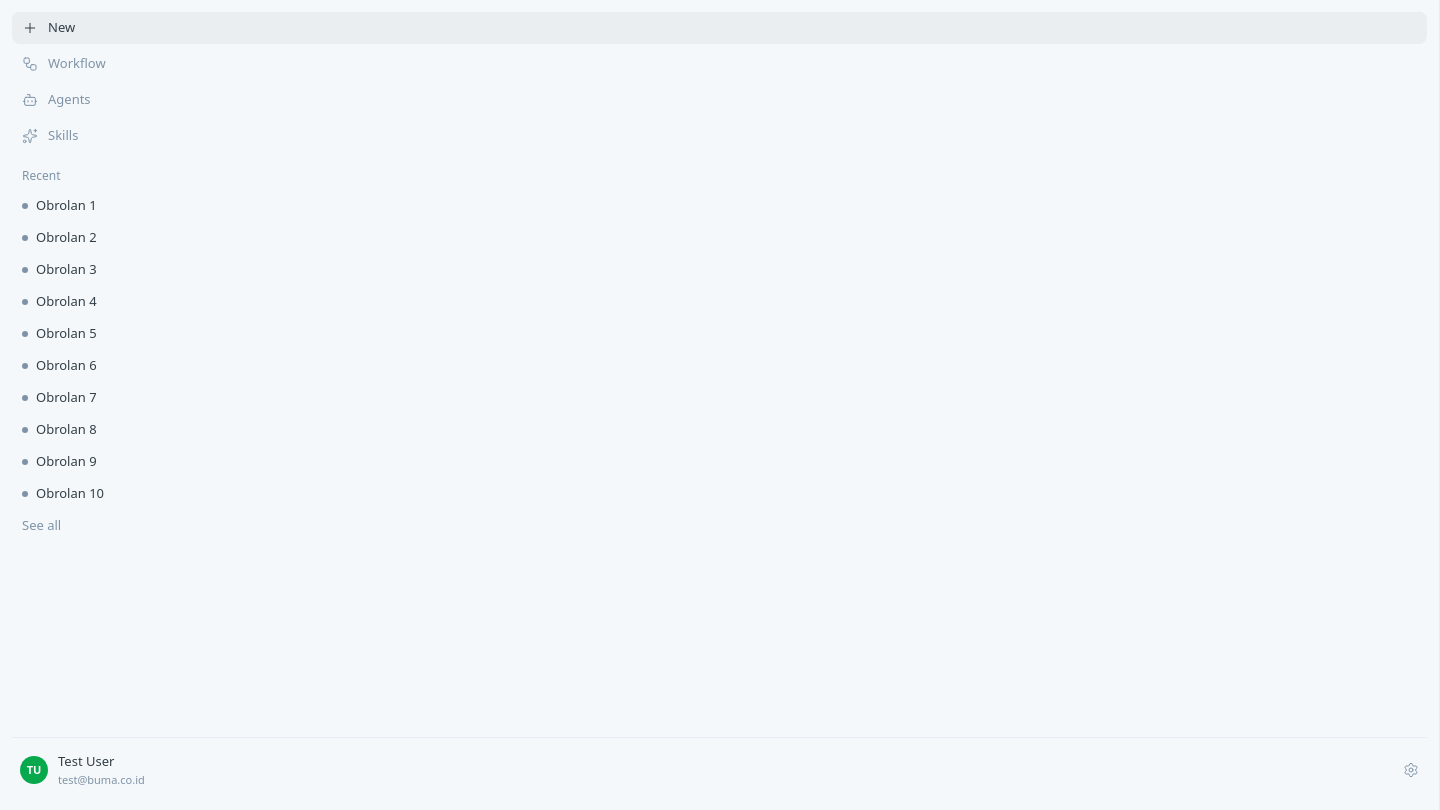
Scenario: Recent in the sidebar › See all with no chats says there are none yet, not that none match
What coordinates should you click on to do the following:
click the button "See all"
I would click on:
 (42, 525)
Its box is [12,512,1427,540].
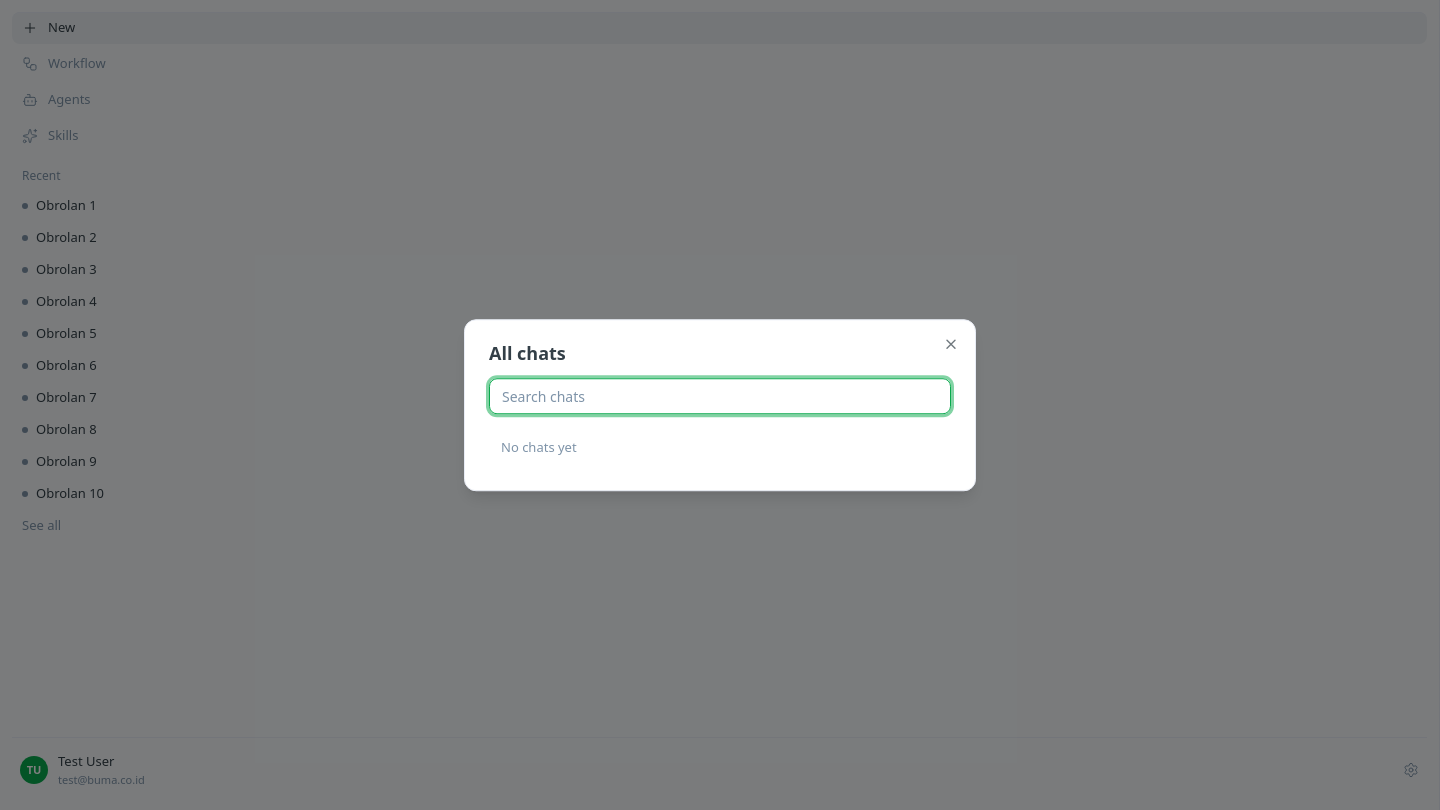
Check: the text "No chats yet" is shown, box [501,438,577,456]
